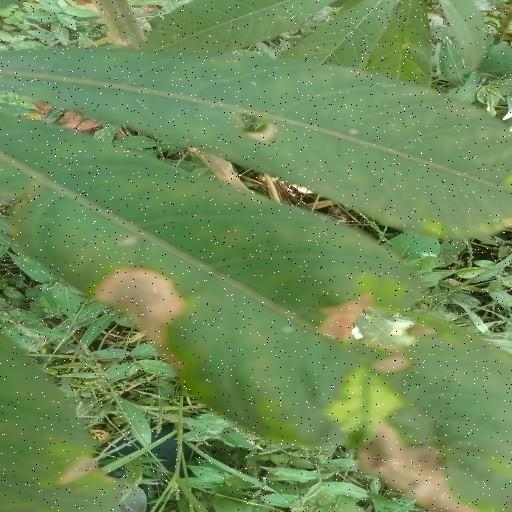Cassava_Brown_Leaf_Spot: (0, 36, 512, 508)
